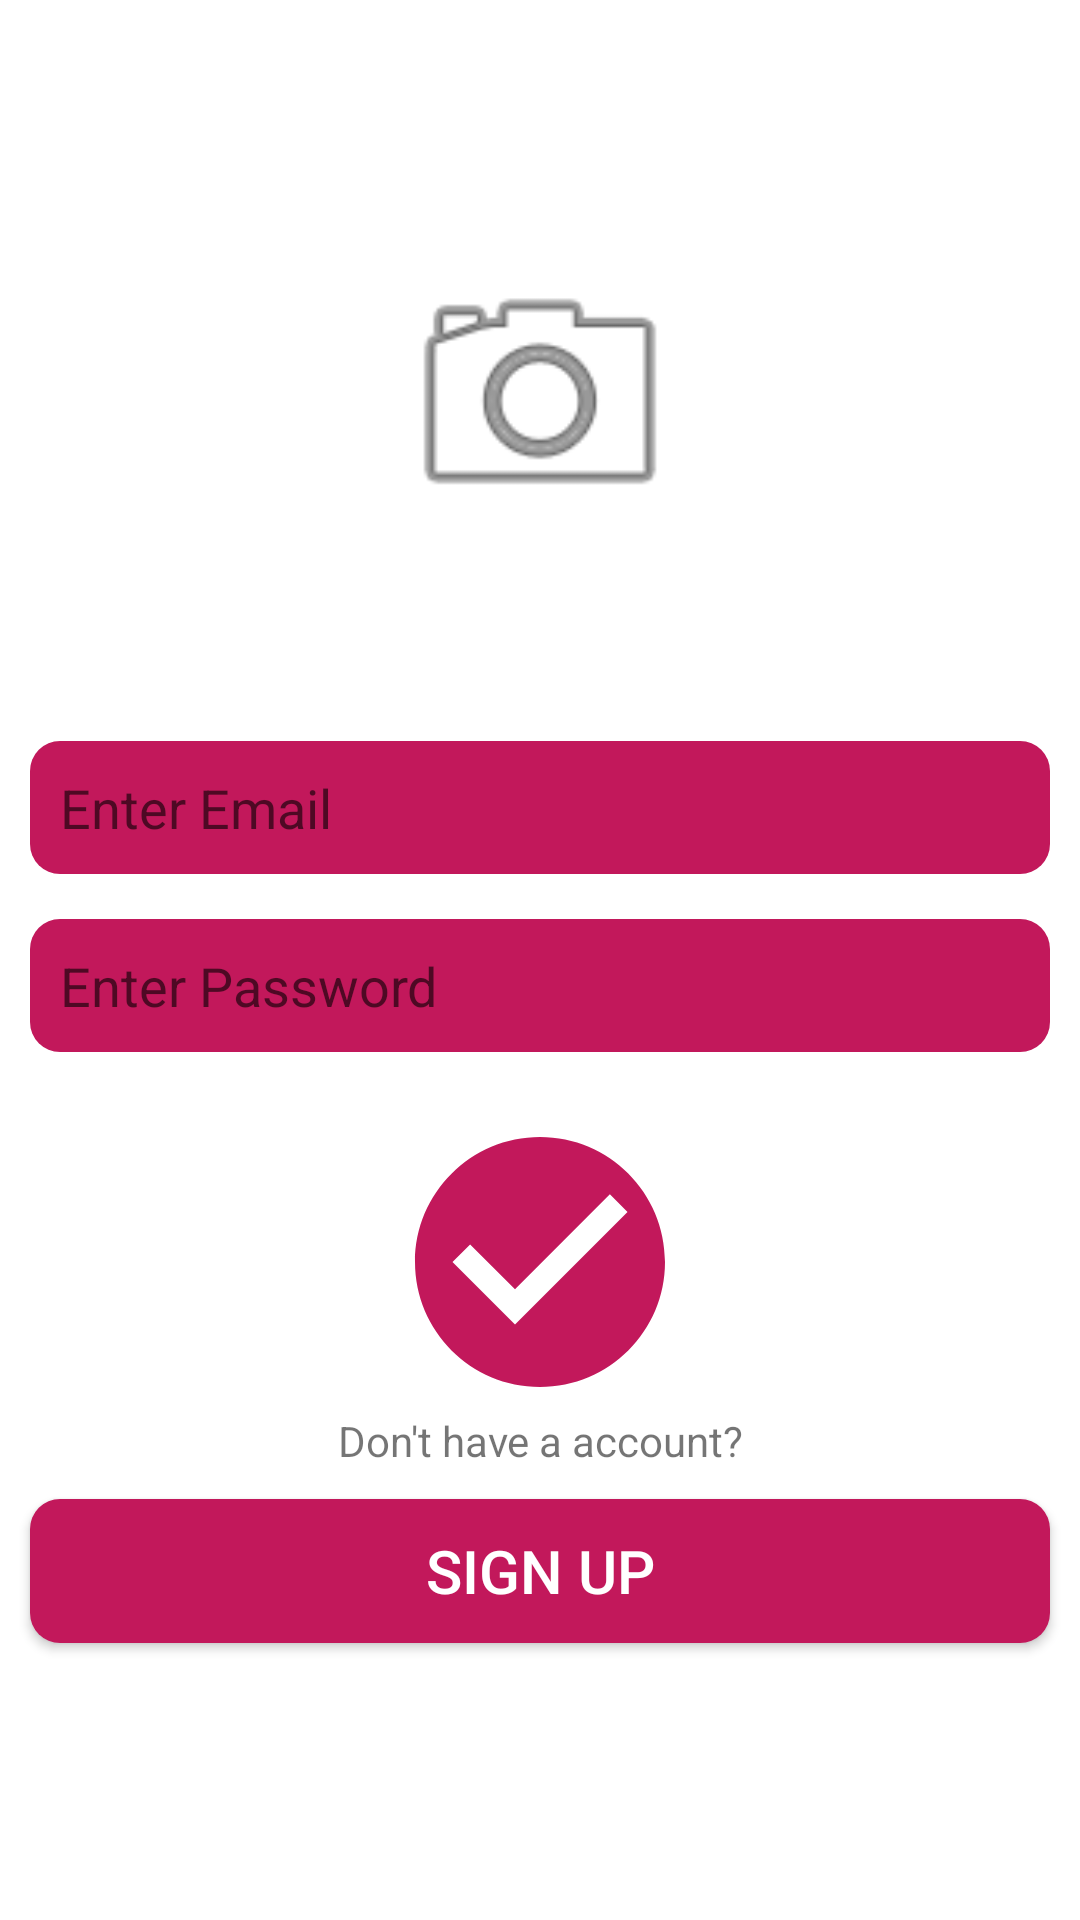

Locate icon controls on the screen. Image size 1080*1920, boxes as bbox(x1, y1, x2, y2).
camera: bbox(424, 299, 656, 484)
right: bbox(415, 1137, 665, 1387)
